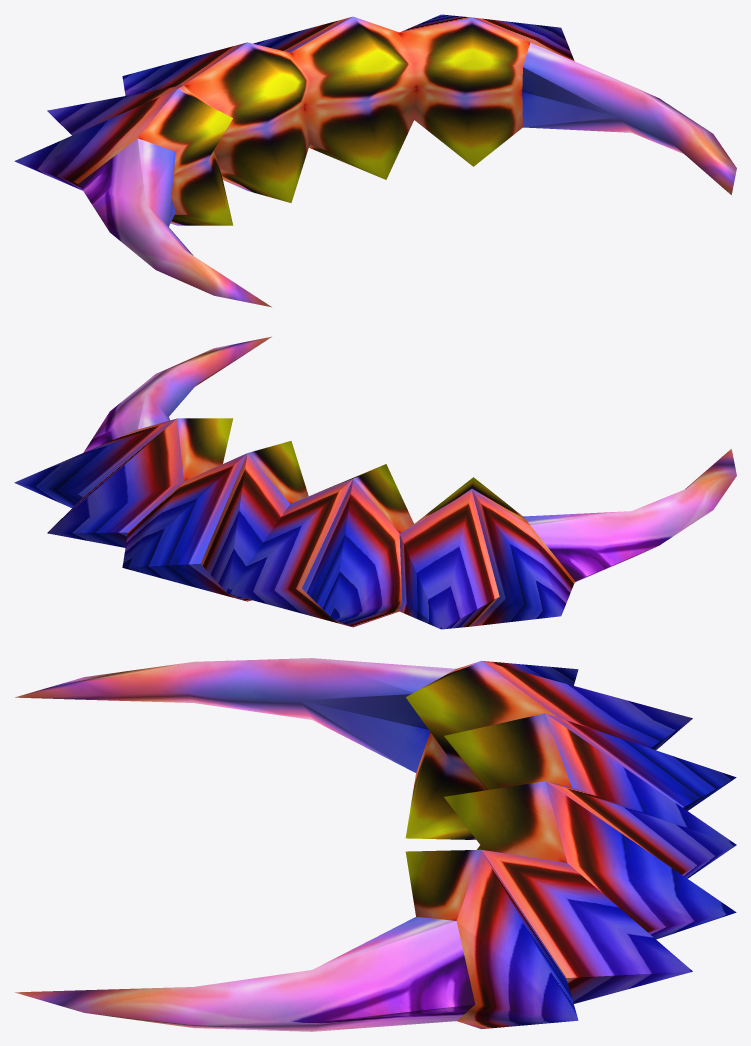
File: ship-55.fbx
The picture shows the model from 3 angles, top to bottom: view 1: azimuth 30°, elevation 25°; view 2: azimuth 150°, elevation 25°; view 3: azimuth 270°, elevation 25°; orthographic projection. The views are drawn at different scales.
Visible parts, largest first — view 1: ship-55; view 2: ship-55; view 3: ship-55.
Boxes of the visible parts, bbox=[...] form: ship-55: bbox=[14, 14, 736, 307]; ship-55: bbox=[14, 336, 736, 629]; ship-55: bbox=[15, 658, 736, 1031].
Size of the model in its own units: 49.35 by 12.56 by 42.1.
